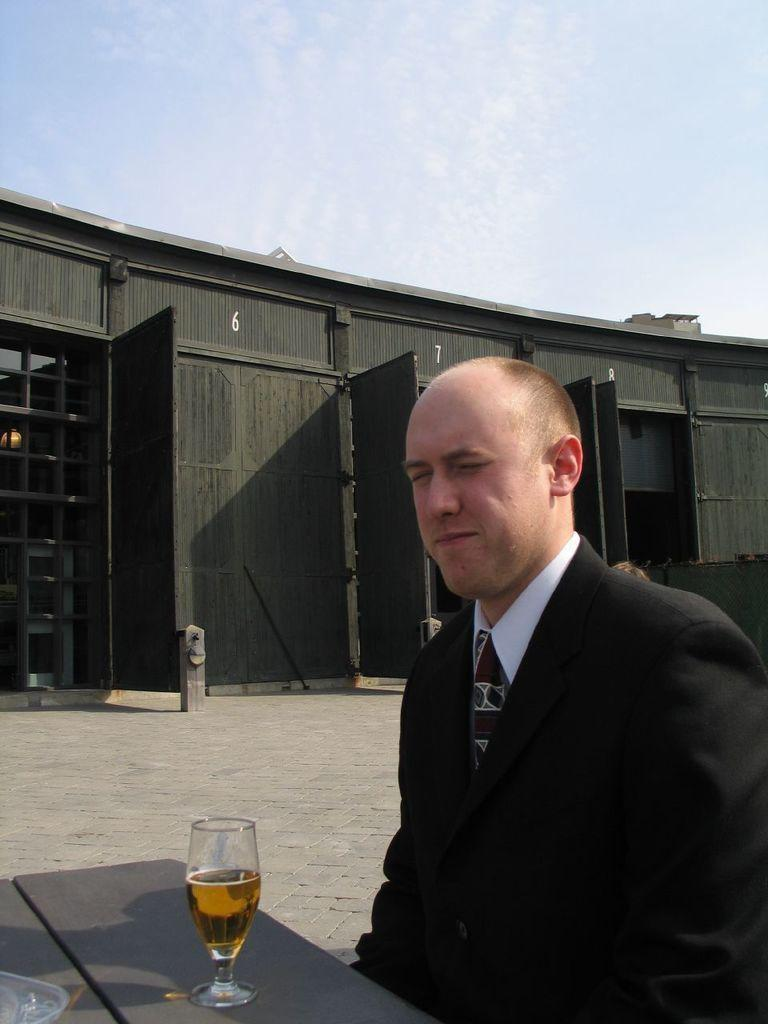glass-wine: (181, 819, 267, 1011)
